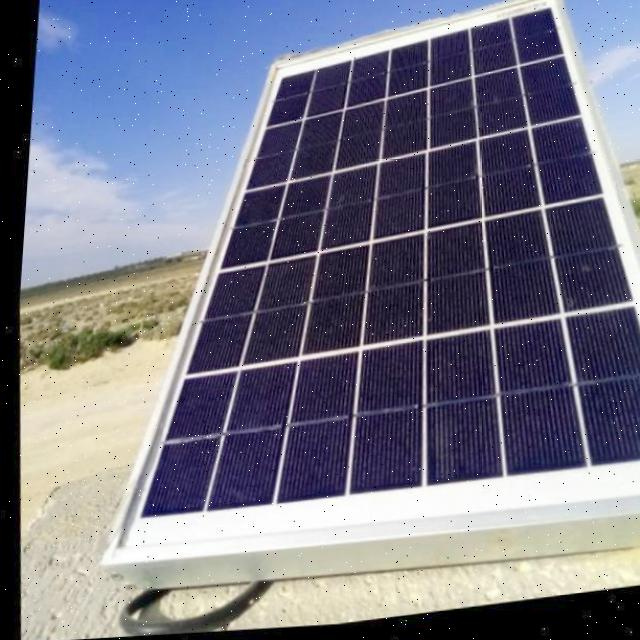Normal Solar Panel: (69, 0, 640, 578)
